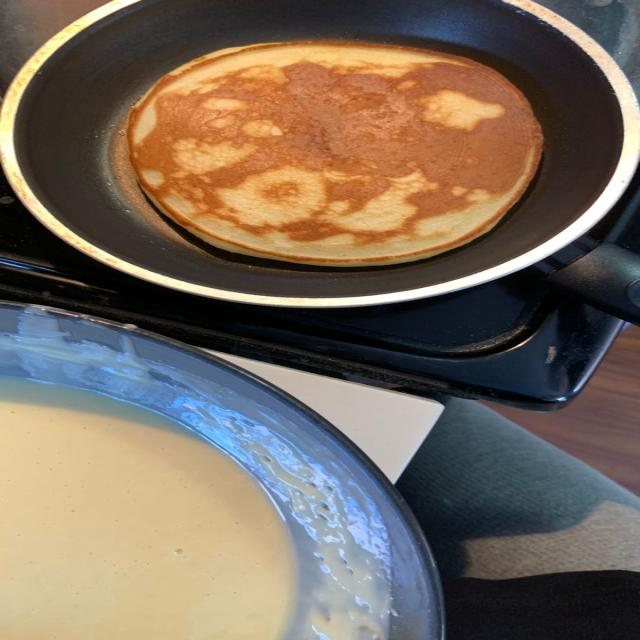pancake: (128, 42, 542, 266)
